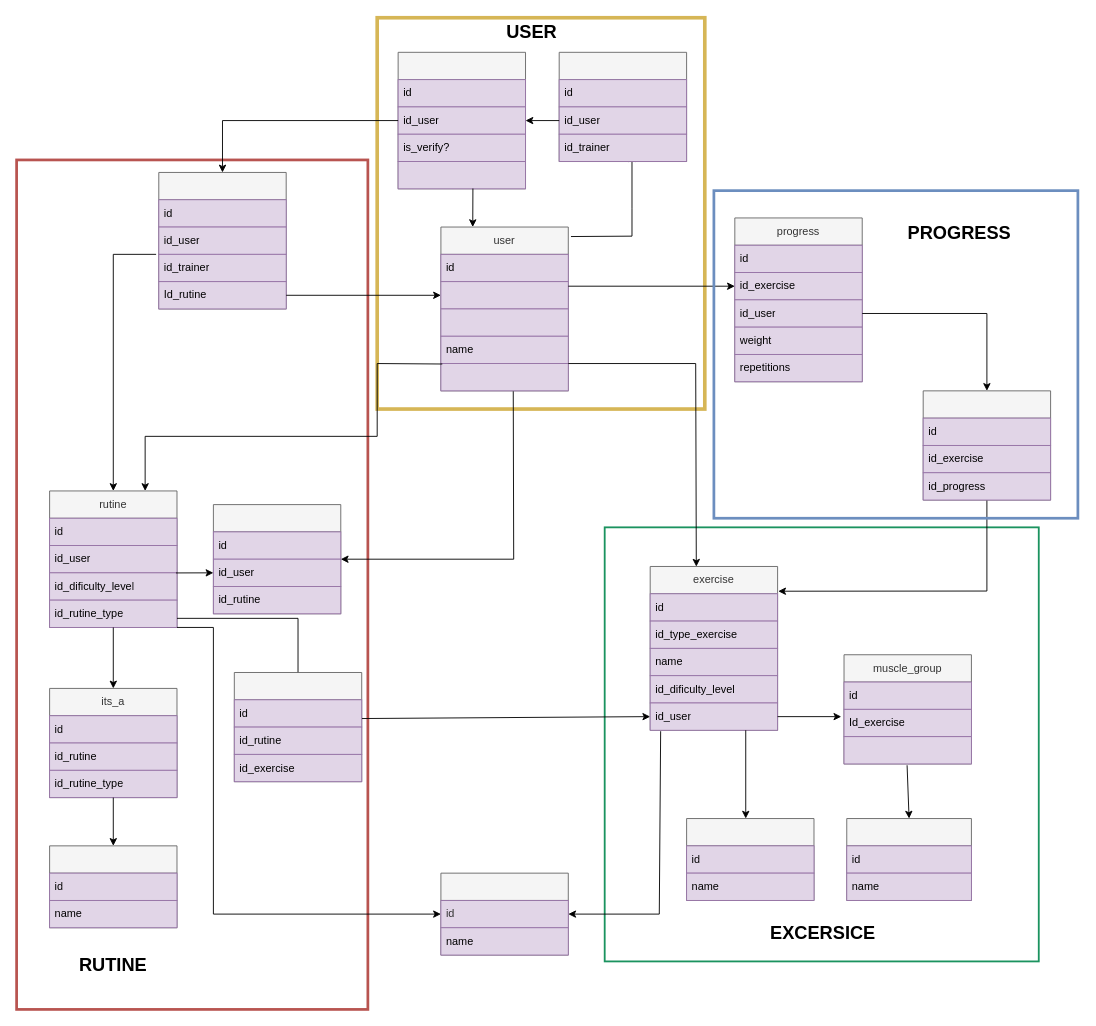
This 1096x1026 diagram has some shape labels left out. Here are the shapes that lost their labels. From the top down, the box of each, then its label:
(397, 51, 526, 189): trainer
(558, 51, 687, 162): user_trainer
(397, 161, 526, 189): rate
(158, 172, 286, 309): assign_rutine
(440, 281, 568, 309): email
(440, 308, 568, 336): password
(440, 363, 568, 391): last_name
(922, 390, 1051, 500): exercise_progress
(212, 504, 341, 614): pick_rutine
(233, 672, 362, 782): rutine_exercise
(843, 736, 971, 764): id_muscle_exercise
(686, 818, 814, 900): exercise_type
(846, 818, 971, 900): muscle_excersice
(49, 845, 177, 928): rutine_type
(440, 872, 568, 955): dificulty_level
